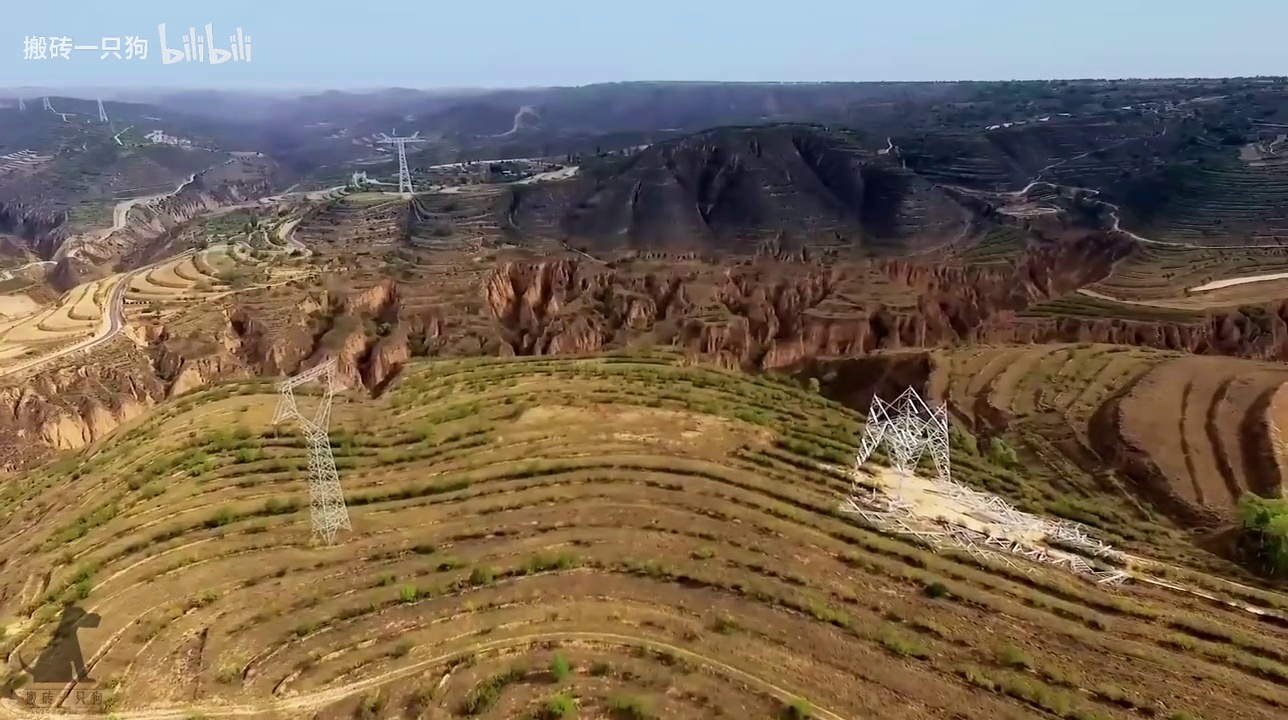tower_body: (258, 349, 375, 559)
tower_foot: (299, 491, 367, 546)
tower_head: (269, 359, 353, 440)
